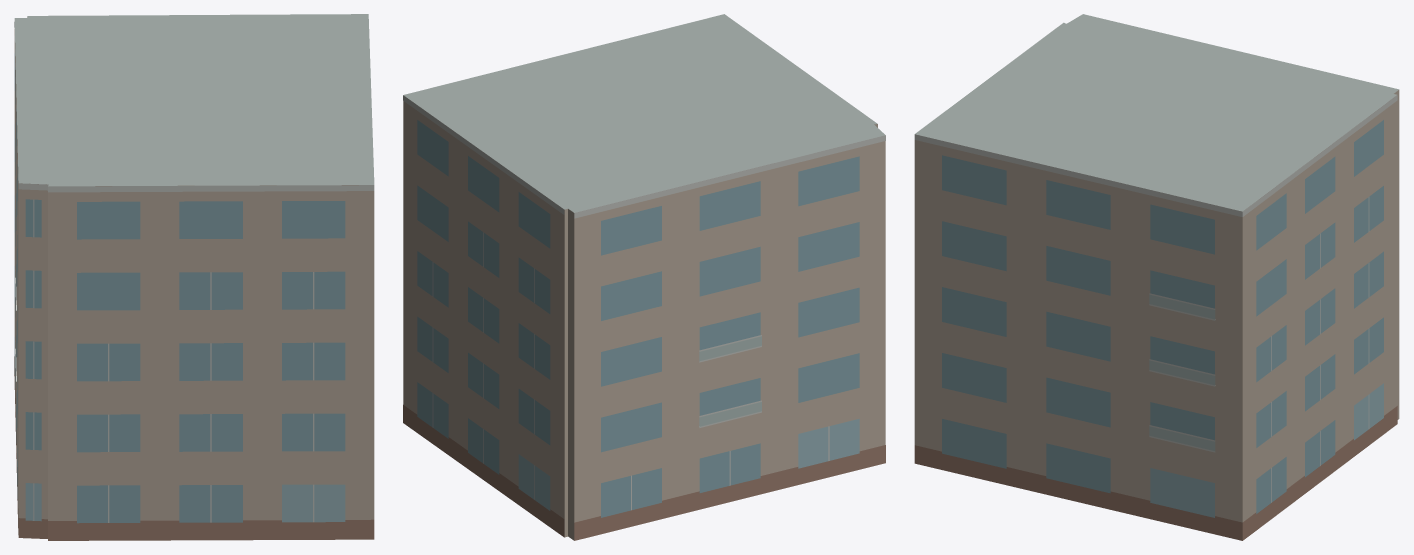
The model's file is survey-upis-32840398.glb.
3 views of the same model, side by side, from view 1: azimuth 30°, elevation 25°; view 2: azimuth 150°, elevation 25°; view 3: azimuth 270°, elevation 25° (orthographic). The views are drawn at different scales.
Parts seen in each view (by area): view 1: survey-upis-32840398.tmp; view 2: survey-upis-32840398.tmp; view 3: survey-upis-32840398.tmp.
Boxes of the visible parts, x1,y1,x2,y2 form: survey-upis-32840398.tmp: (14, 14, 374, 540); survey-upis-32840398.tmp: (403, 14, 885, 540); survey-upis-32840398.tmp: (914, 14, 1399, 540).
Size of the model in its own units: 18.41 by 14.3 by 19.09.
